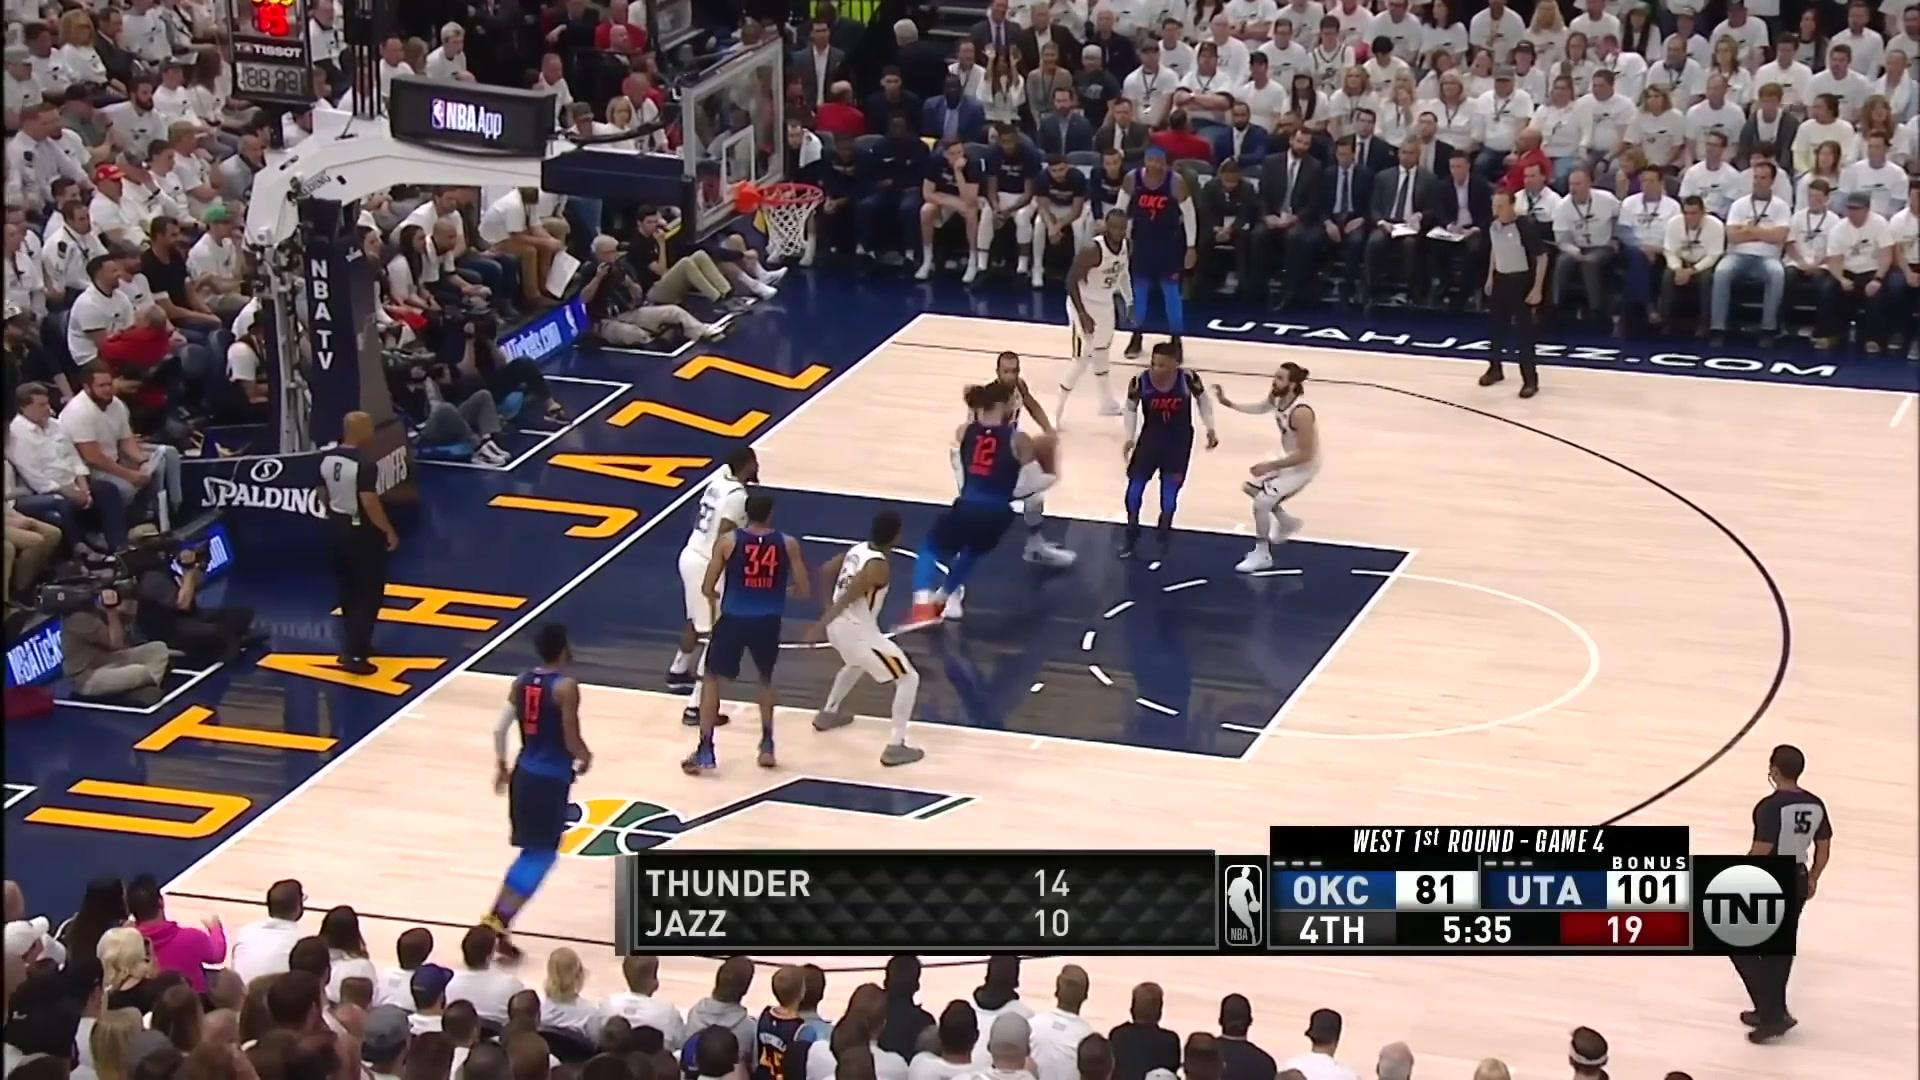foul: (911, 352, 1077, 589)
